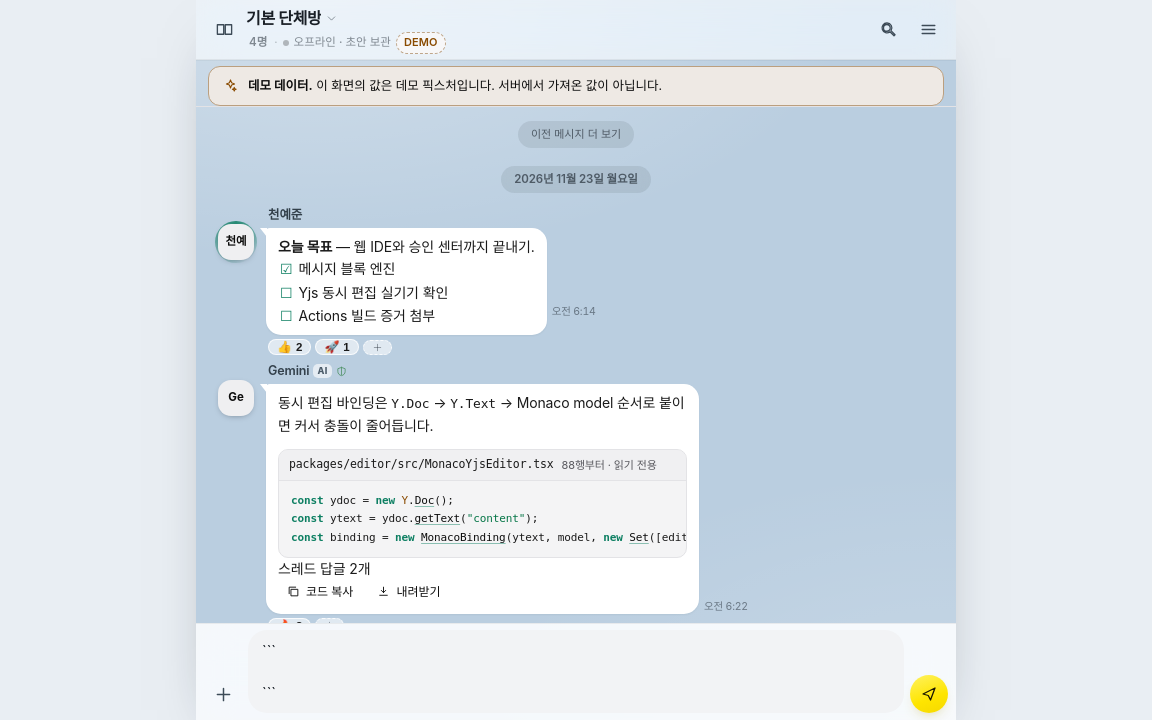
Test: everything happens inside the room › opens a message's action sheet from the bubble, with the ways out of a message
This screenshot has width=1152, height=720.
Click the element with class "air-msg-bubble" that starts with "오늘 목표" at point(406, 282), box [266, 228, 547, 335]
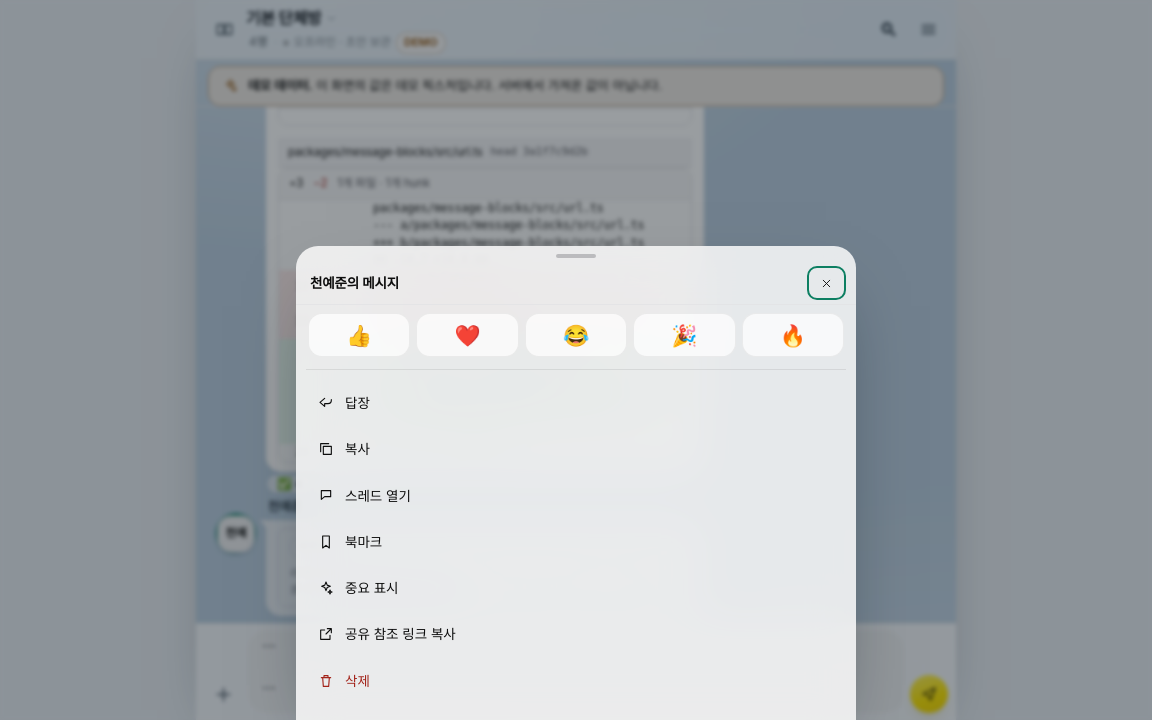
Expected: the dialog with test id "chat-action-sheet" is shown, [296, 246, 856, 719]
